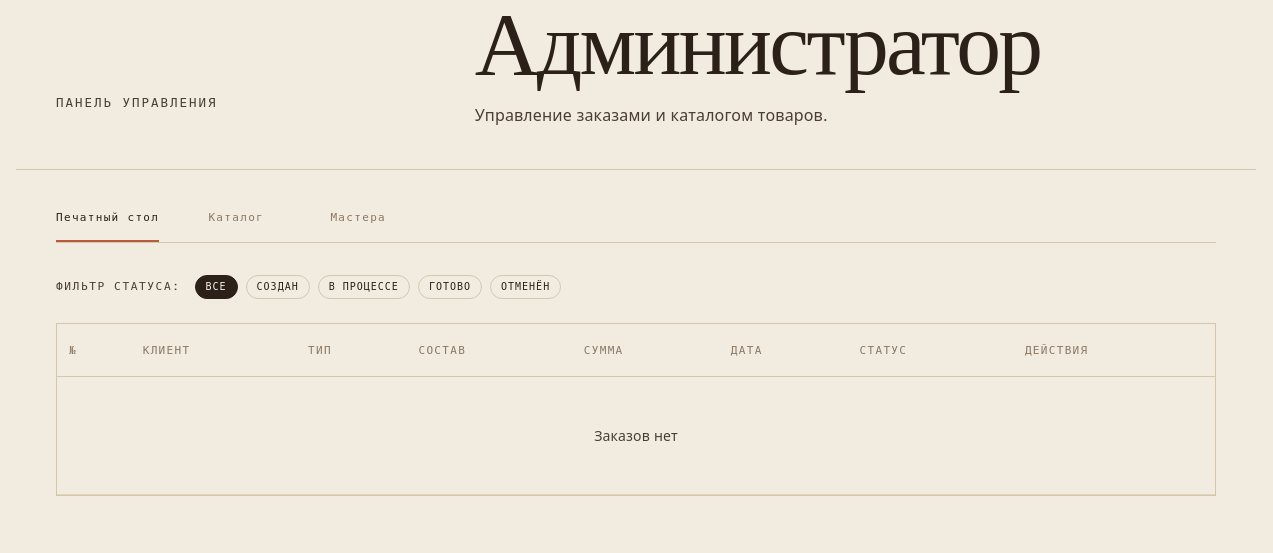
Test: Admin: вкладка каталога › переключается на вкладку "Каталог" и показывает товары
The width and height of the screenshot is (1273, 553).
Step 1. Click the tab "Каталог" → (236, 218), box [191,194,281,242]
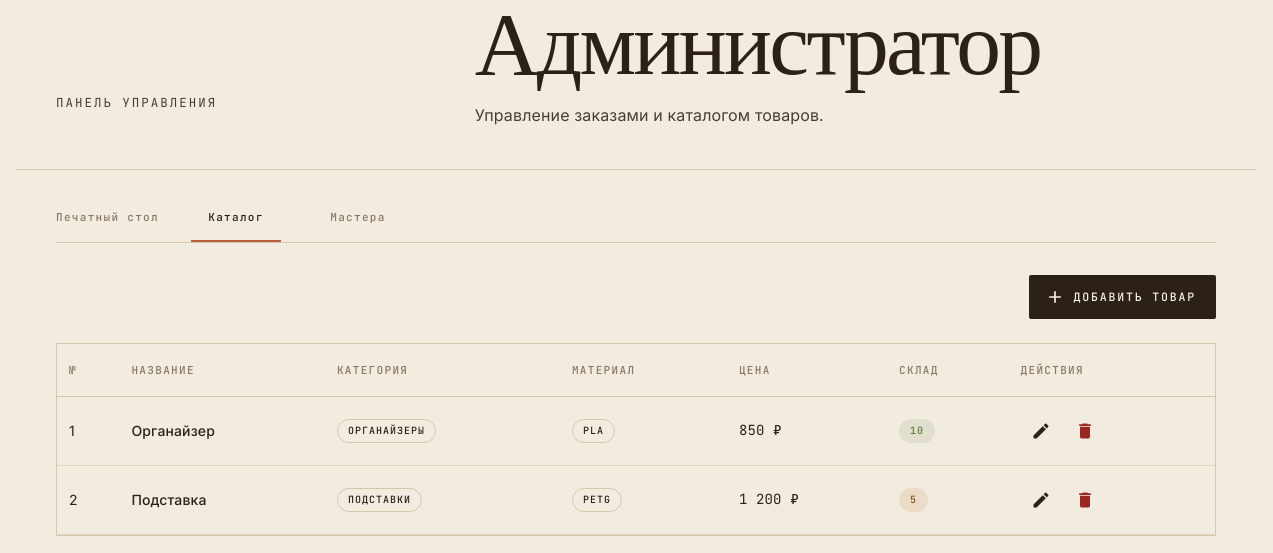
Expected: the text "Органайзер" is shown, [120,396,325,465]
Expected: the text "Подставка" is shown, [120,465,325,534]
